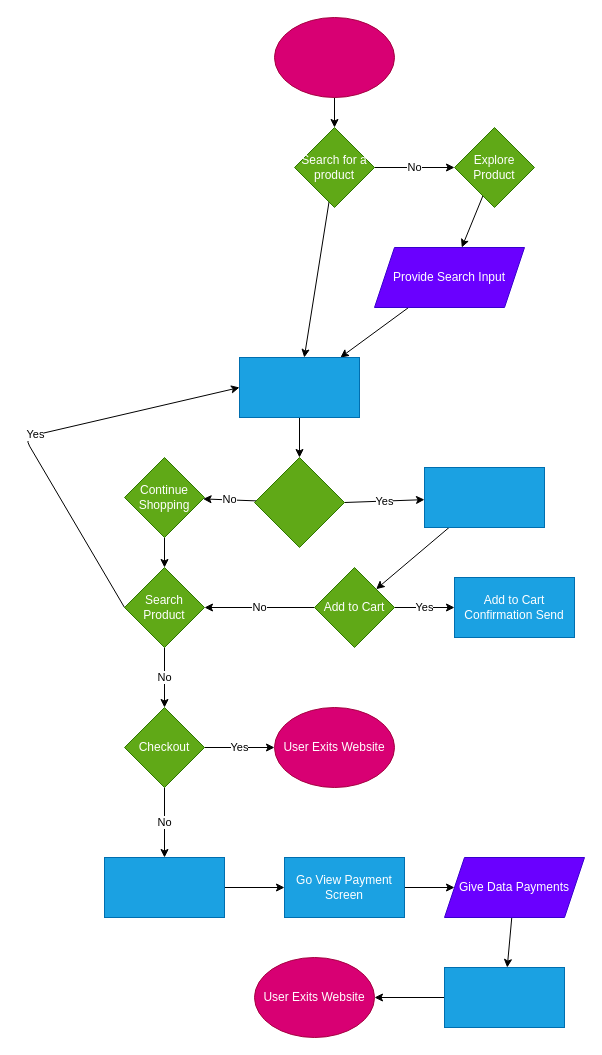
The diagram is 602 pixels wide and 1055 high, and some of its shapes have lost their labels. Each missing label, with the centre of its shape:
"Look over Products" goes at pixel 299 387.
"Open Product Site" goes at pixel 484 497.
"Reach View Cart Screen" goes at pixel 164 887.
"Recieve Confirmation Screen and Email" goes at pixel 504 997.
"User Enter Website" goes at pixel 334 57.
"View Specific Item" goes at pixel 299 502.
